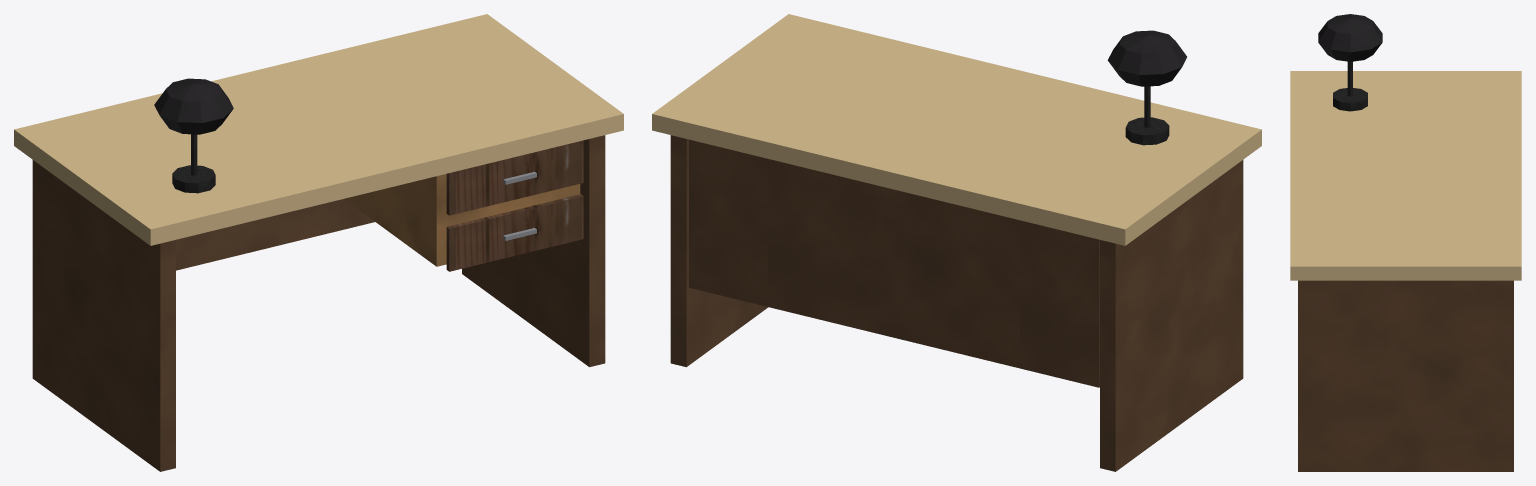
File: TeacherDesk.obj
3 renders of one model, left to right at view 1: azimuth 30°, elevation 25°; view 2: azimuth 150°, elevation 25°; view 3: azimuth 270°, elevation 25°, orthographic. The views are drawn at different scales.
Visible parts, largest first — view 1: top, sides, drawers, back, lamp; view 2: top, back, sides, lamp; view 3: top, sides, lamp.
Part boxes in pixels (x1,y1,x2,y2): top: [14, 14, 623, 245]; sides: [32, 135, 605, 471]; drawers: [344, 140, 583, 271]; back: [176, 199, 374, 270]; lamp: [154, 78, 233, 193]; top: [652, 14, 1261, 245]; back: [689, 139, 1099, 387]; sides: [670, 135, 1243, 471]; lamp: [1107, 30, 1186, 145]; top: [1290, 71, 1521, 280]; sides: [1298, 280, 1513, 471]; lamp: [1318, 14, 1382, 111].
Bounding box in the file's own units: 1.5 × 1.06 × 0.75.
Materials: 7 (5 with a texture image).
